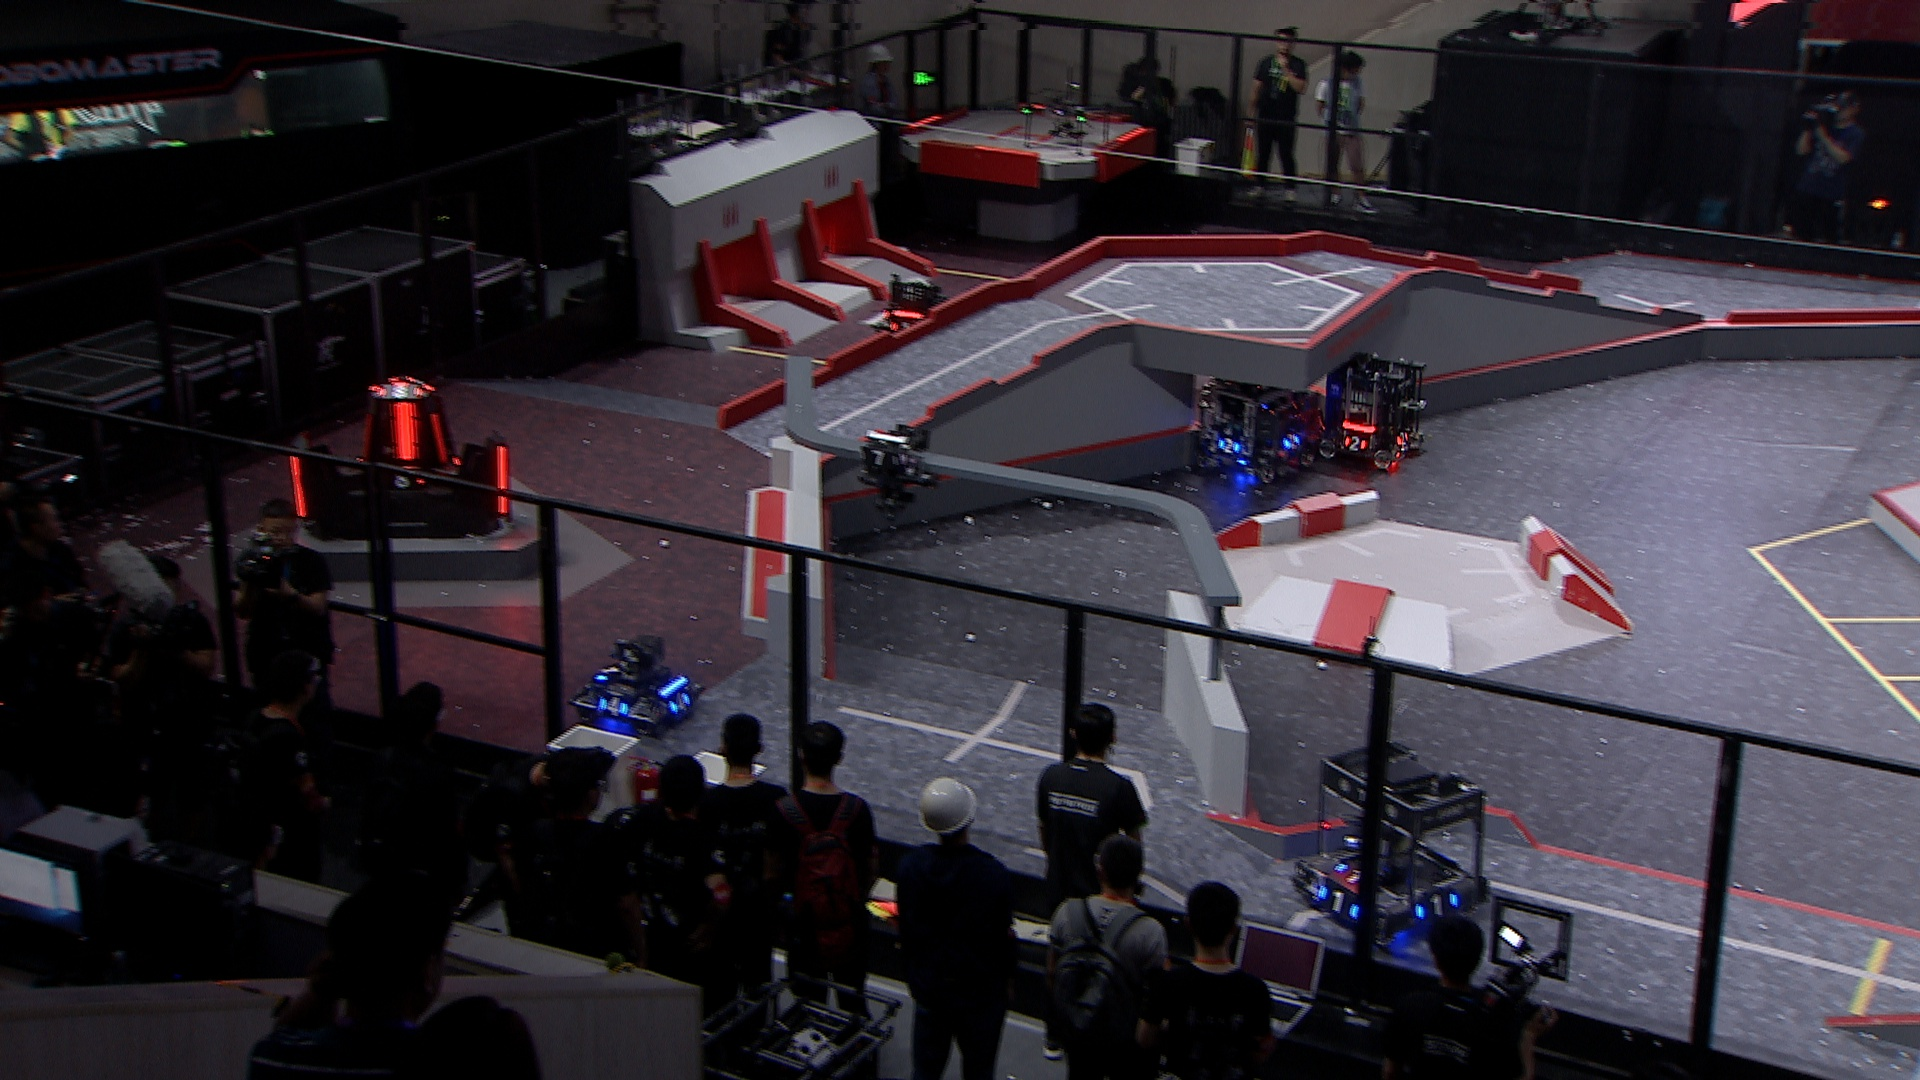armor: (386, 400, 418, 465), (1313, 885, 1362, 920), (1414, 889, 1462, 920), (495, 443, 514, 518), (289, 452, 309, 522), (429, 410, 451, 465), (356, 411, 376, 465), (855, 448, 899, 469), (373, 384, 427, 401), (386, 473, 427, 493), (667, 690, 695, 716), (595, 698, 632, 717), (1331, 860, 1361, 884), (1340, 433, 1367, 455), (593, 665, 621, 684), (1218, 436, 1240, 458), (889, 319, 916, 335), (1280, 431, 1302, 450), (1394, 431, 1410, 448)
base: (287, 380, 517, 541)
car: (1290, 737, 1491, 951), (1191, 371, 1317, 488), (568, 633, 705, 737), (1313, 351, 1429, 471), (868, 272, 956, 345)
watcher: (851, 422, 936, 514)
